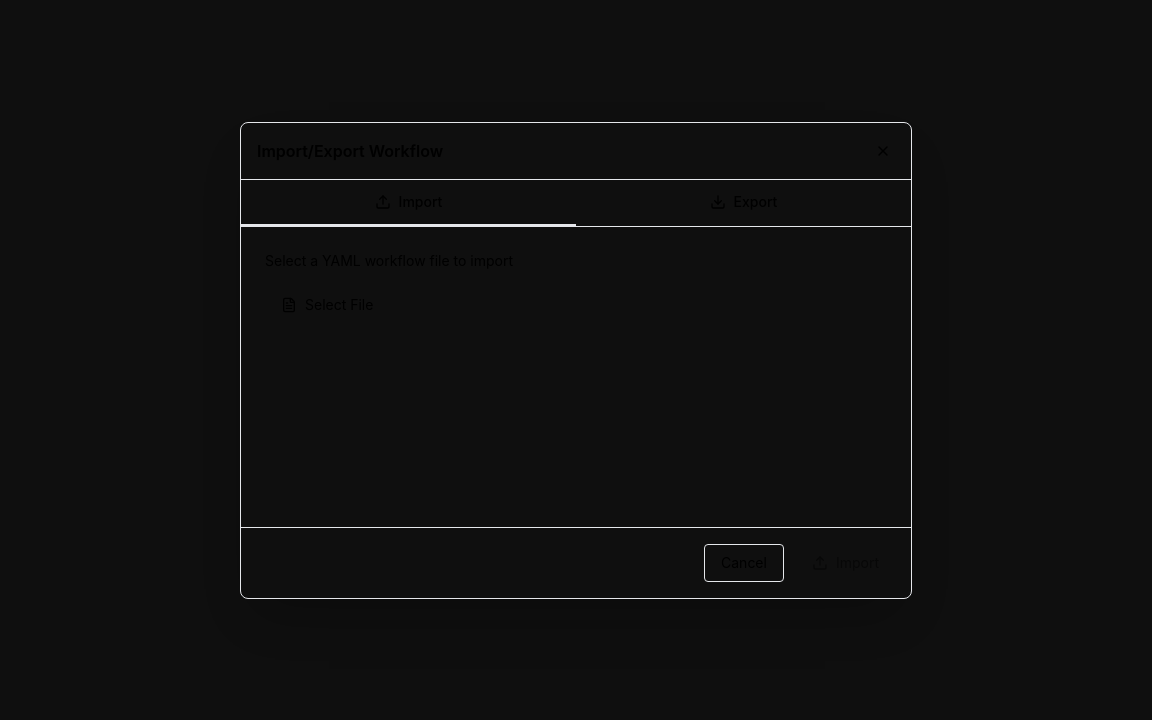
it: ImportExportDialog › Export Tab › should render file name input
Click the tab "Export" at (744, 202), box [576, 180, 911, 226]
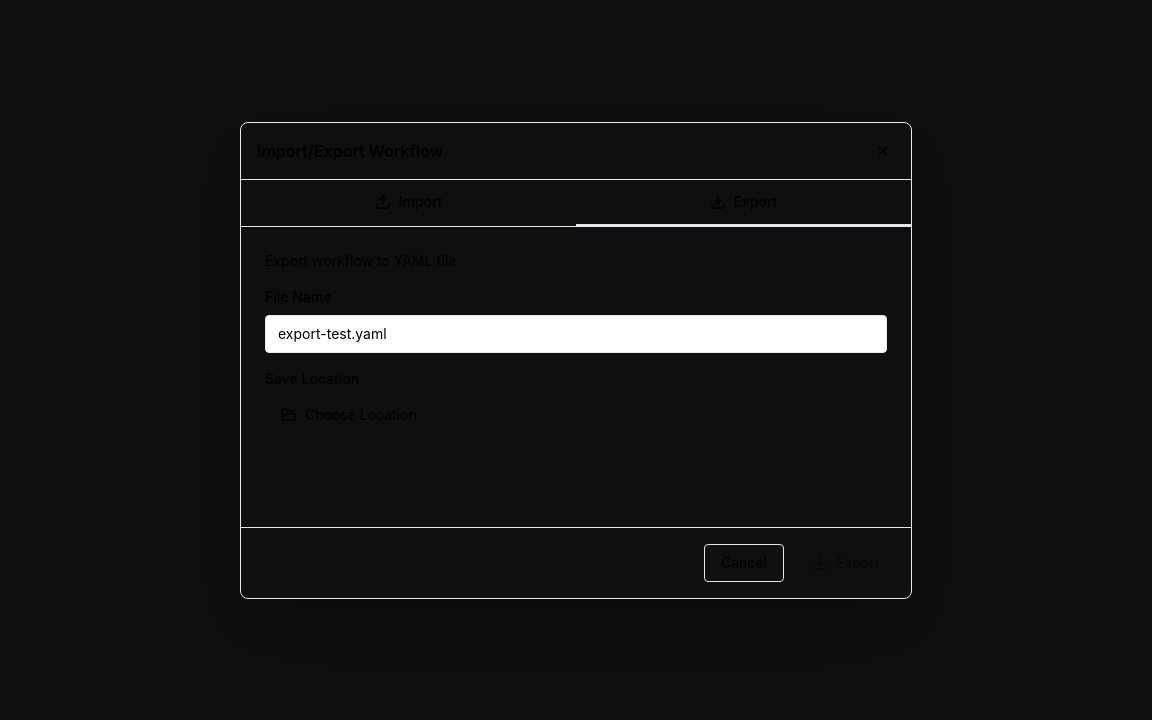
Check: the field labelled "File Name" is shown, box [265, 314, 887, 352]
